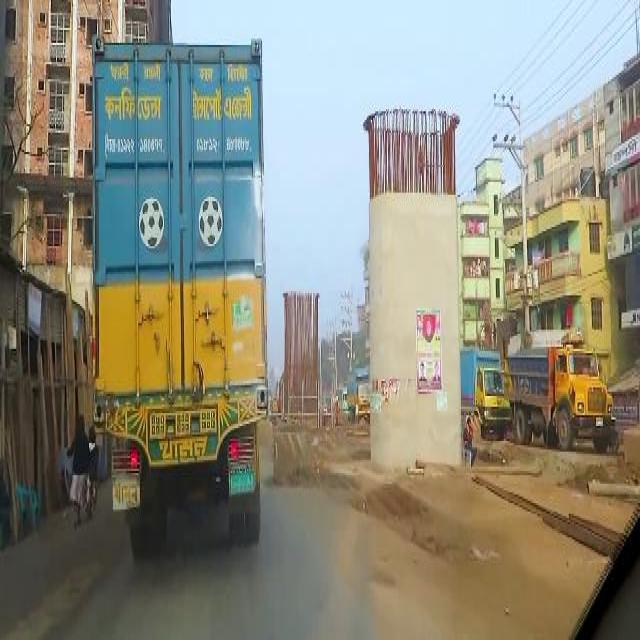truck: (90, 30, 268, 554), (508, 350, 614, 453), (462, 344, 506, 429), (346, 367, 368, 419)
